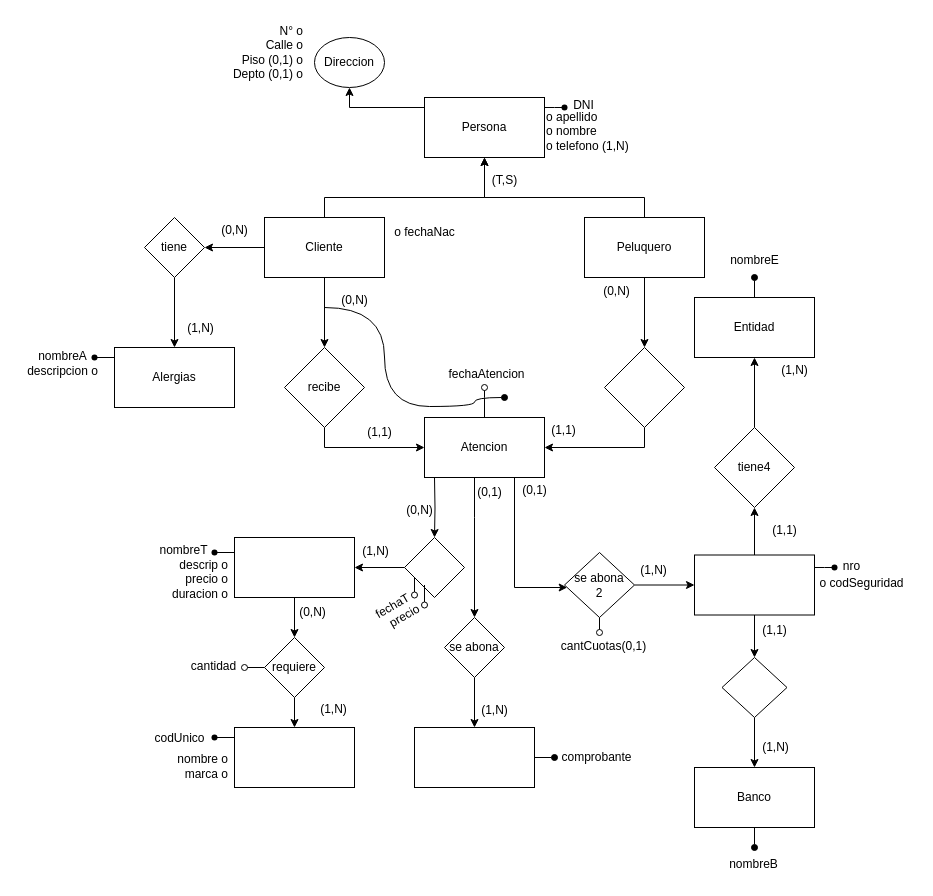
The diagram is 933 pixels wide and 896 high, and some of its shapes have lost their labels. Each missing label, with the centre of its shape:
Componente: (294,757)
Efectivo: (474,757)
realiza: (644,387)
Tarjeta: (754,584)
tiene2: (434,567)
tiene3: (754,687)
Tratamiento: (294,567)
